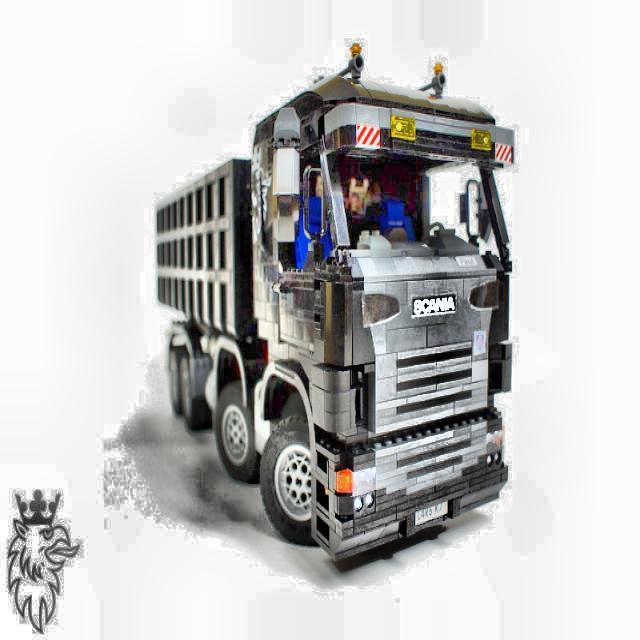dump_truck: (156, 76, 515, 564)
